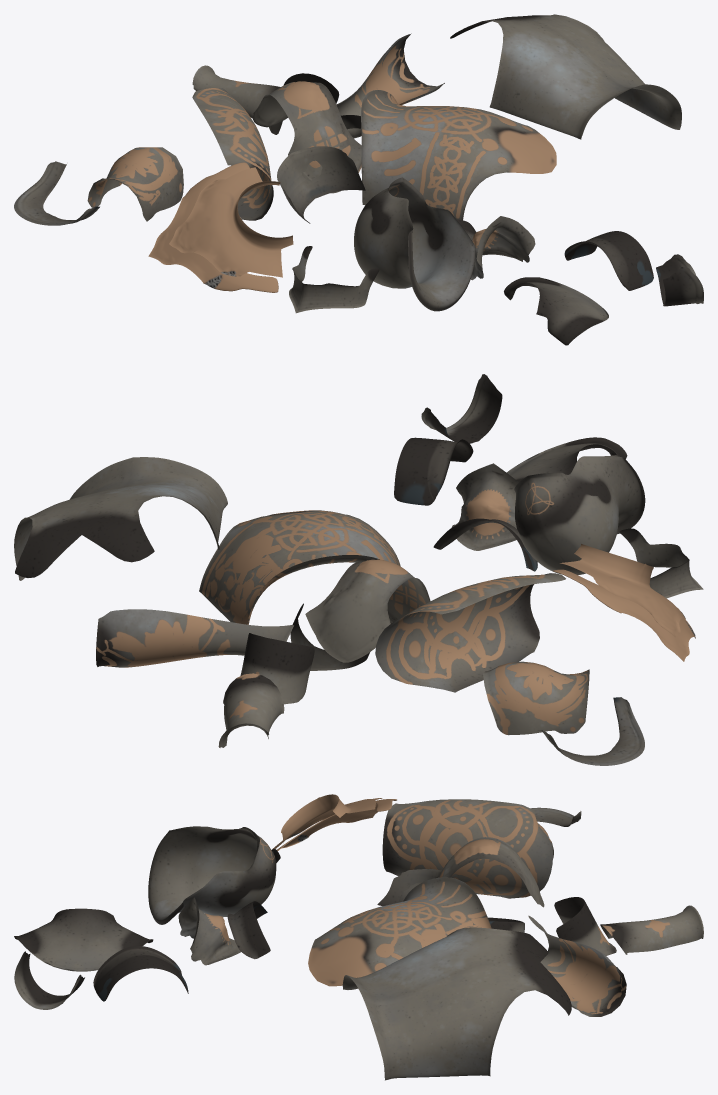
Rendered from SM_KnightPileSmal.fbx.
3 renders of one model, top to bottom at view 1: azimuth 30°, elevation 25°; view 2: azimuth 150°, elevation 25°; view 3: azimuth 270°, elevation 25°, orthographic. The views are drawn at different scales.
Parts seen in each view (by area): view 1: SM_KnightPileSmal_LOD0; view 2: SM_KnightPileSmal_LOD0; view 3: SM_KnightPileSmal_LOD0.
Part boxes in pixels (x1,y1,x2,y2): SM_KnightPileSmal_LOD0: (14, 14, 703, 345); SM_KnightPileSmal_LOD0: (14, 374, 703, 765); SM_KnightPileSmal_LOD0: (14, 794, 703, 1080).
Bounding box in the file's own units: 184 × 195 × 30.81.
Materials: 1 (1 with a texture image).
